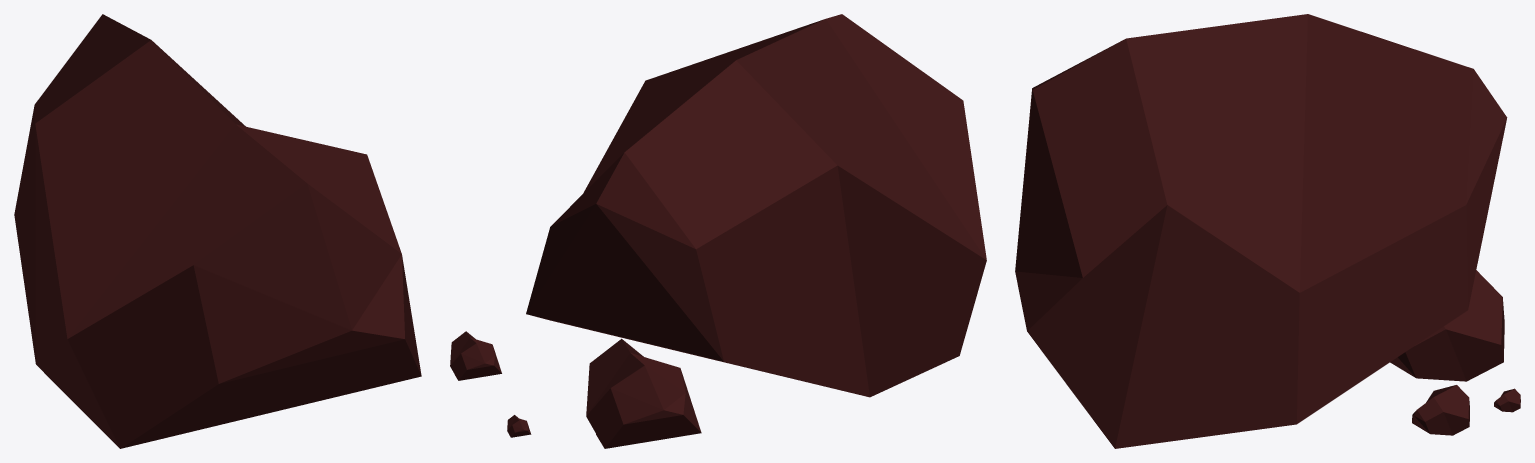
File: rocks.fbx
The picture shows the model from 3 angles, left to right: view 1: azimuth 30°, elevation 25°; view 2: azimuth 150°, elevation 25°; view 3: azimuth 270°, elevation 25°; orthographic projection. The views are drawn at different scales.
Parts seen in each view (by area): view 1: pSphere1; view 2: pSphere1, pSphere4, pSphere5; view 3: pSphere1, pSphere4, pSphere5.
Part boxes in pixels (left/top/right/bottom): pSphere1: left=14, top=14, right=421, bottom=448; pSphere1: left=526, top=14, right=986, bottom=397; pSphere4: left=586, top=338, right=701, bottom=448; pSphere5: left=450, top=331, right=501, bottom=380; pSphere1: left=1015, top=14, right=1507, bottom=448; pSphere4: left=1390, top=270, right=1504, bottom=381; pSphere5: left=1412, top=385, right=1469, bottom=435.
Bounding box in the file's own units: 1.36 × 1.12 × 1.51.
